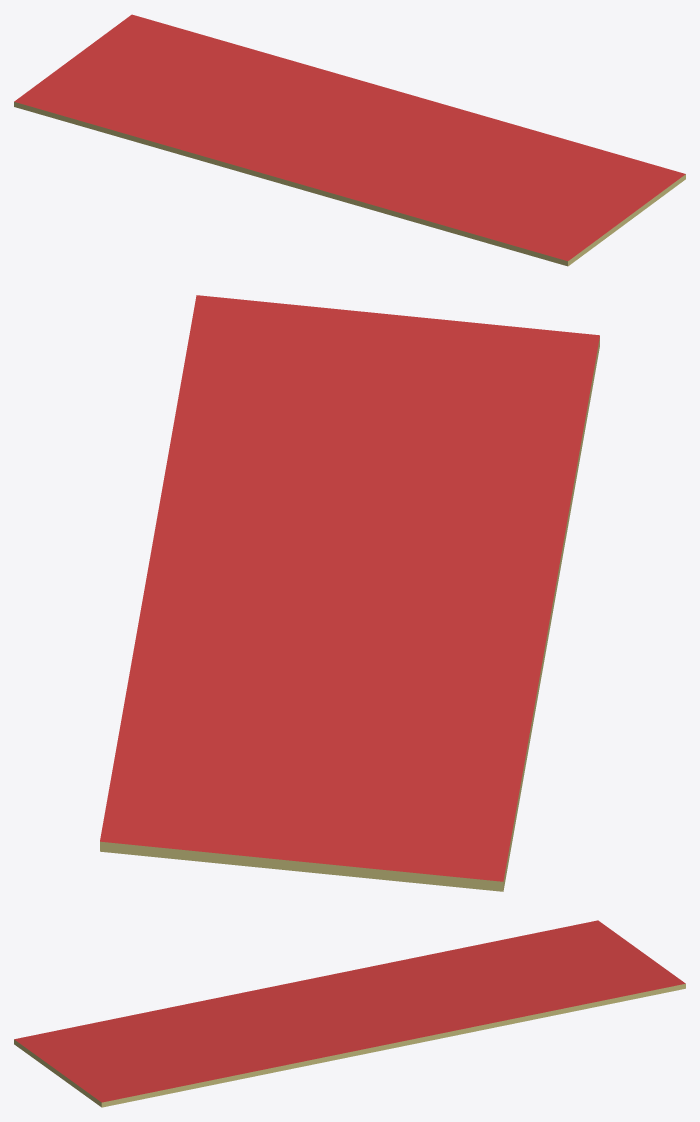
The picture shows the model from 3 angles, top to bottom: view 1: azimuth 30°, elevation 25°; view 2: azimuth 150°, elevation 25°; view 3: azimuth 270°, elevation 25°; orthographic projection. The views are drawn at different scales.
Size of the model in its own units: 8.37 by 12.13 by 0.373.
